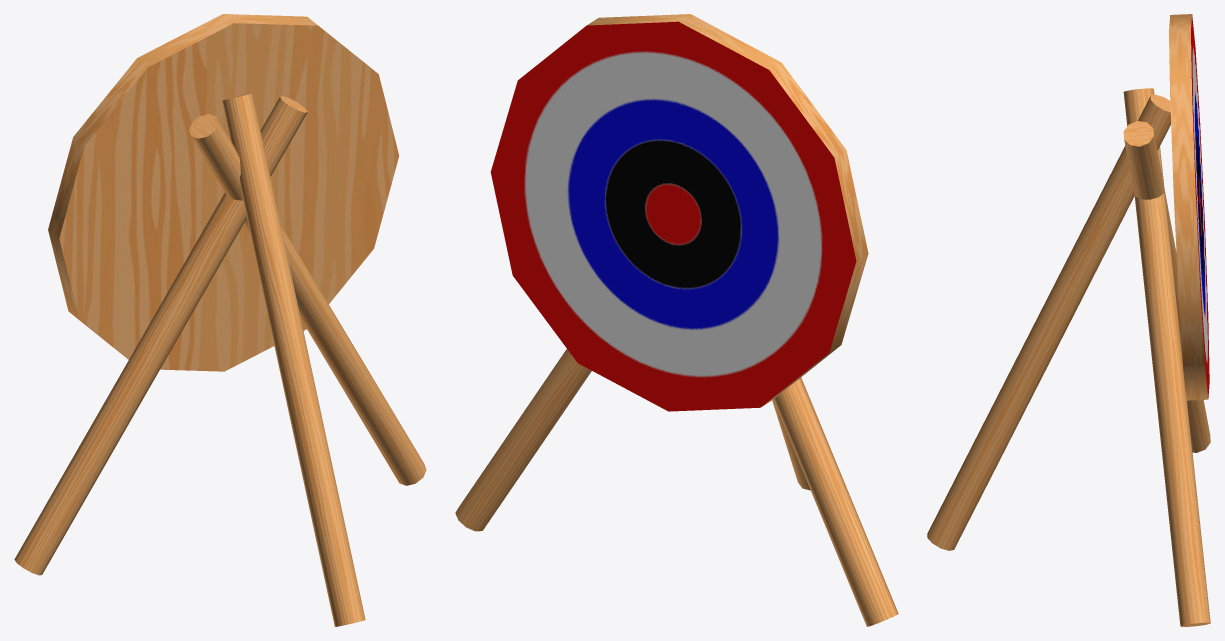
Rendered from GAM0210036.fbx.
The picture shows the model from 3 angles, left to right: view 1: azimuth 30°, elevation 25°; view 2: azimuth 150°, elevation 25°; view 3: azimuth 270°, elevation 25°; orthographic projection. The views are drawn at different scales.
Parts seen in each view (by area): view 1: smGAM0210036; view 2: smGAM0210036; view 3: smGAM0210036.
Boxes of the visible parts, <box> form: smGAM0210036: <box>14,14,426,626</box>; smGAM0210036: <box>455,14,898,626</box>; smGAM0210036: <box>927,14,1210,626</box>.
Size of the model in its own units: 129 by 159 by 78.96.
Materials: 1 (1 with a texture image).
